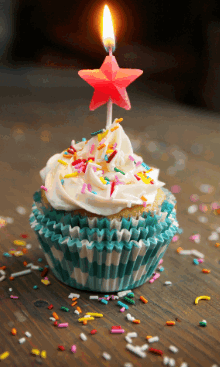Fire: (87, 4, 138, 55)
